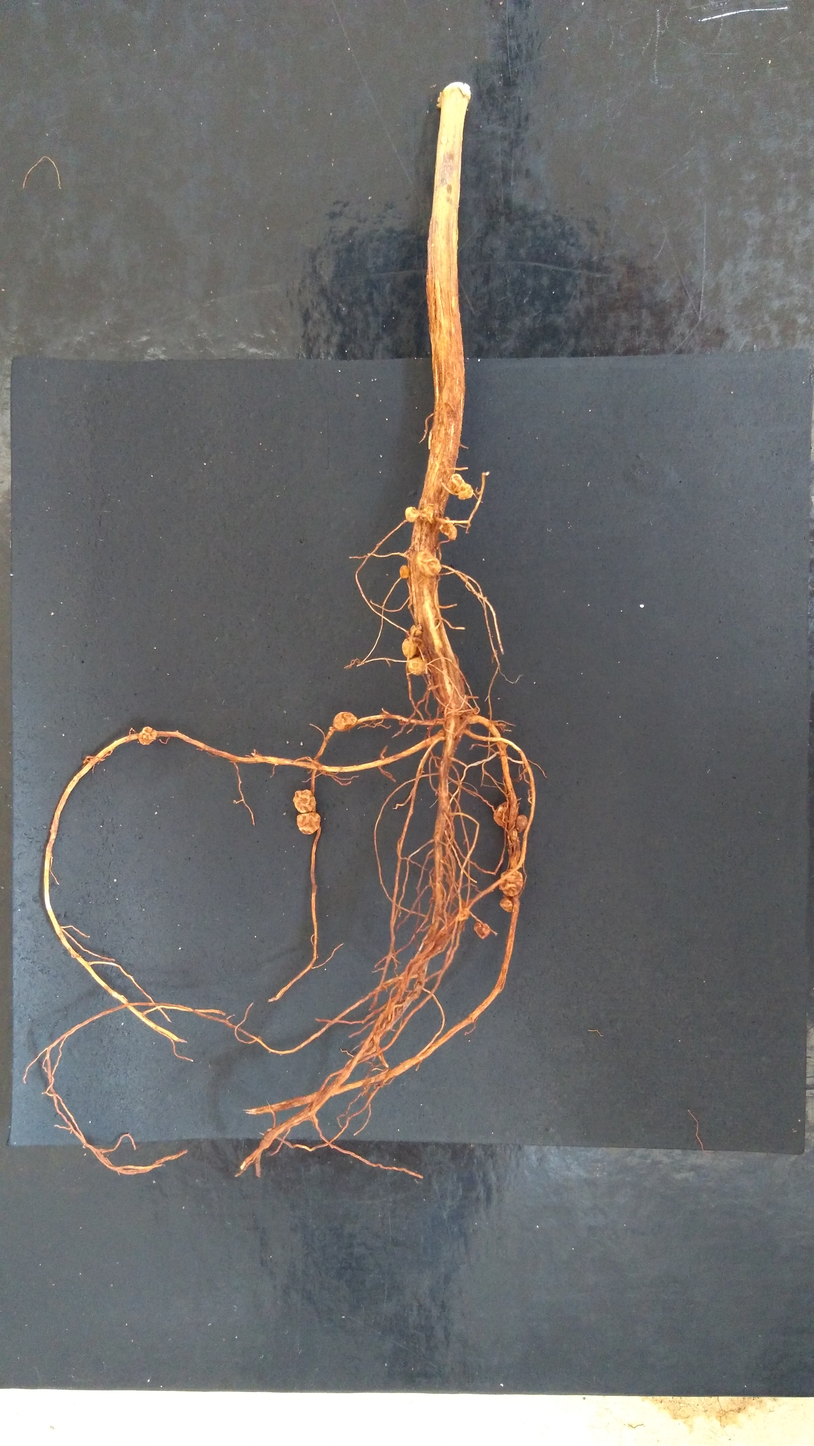nodule: (496, 868, 526, 898), (415, 550, 443, 579), (293, 812, 325, 836), (331, 709, 360, 734), (450, 472, 474, 502), (292, 788, 319, 813), (491, 800, 512, 830), (439, 514, 459, 542), (136, 724, 159, 747), (405, 656, 429, 678), (401, 636, 418, 660), (473, 921, 491, 941), (404, 504, 420, 525), (514, 813, 528, 834), (498, 896, 514, 914), (399, 563, 410, 581), (409, 623, 423, 637)
